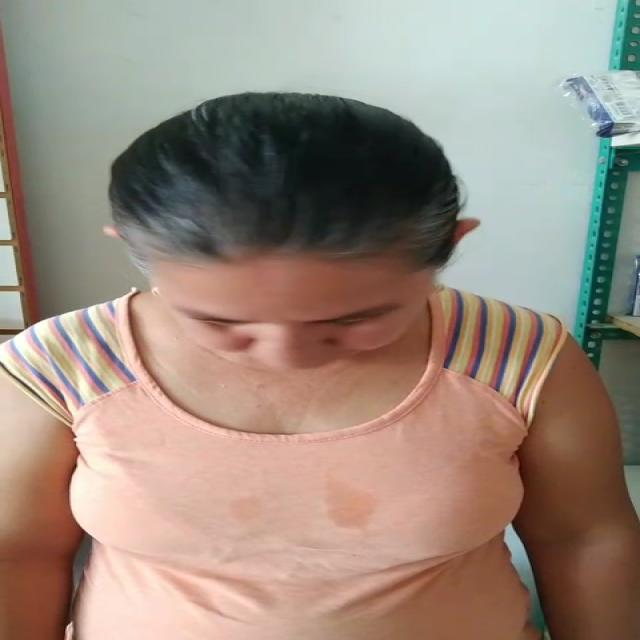9_cabeza_baja: (98, 91, 480, 372)
